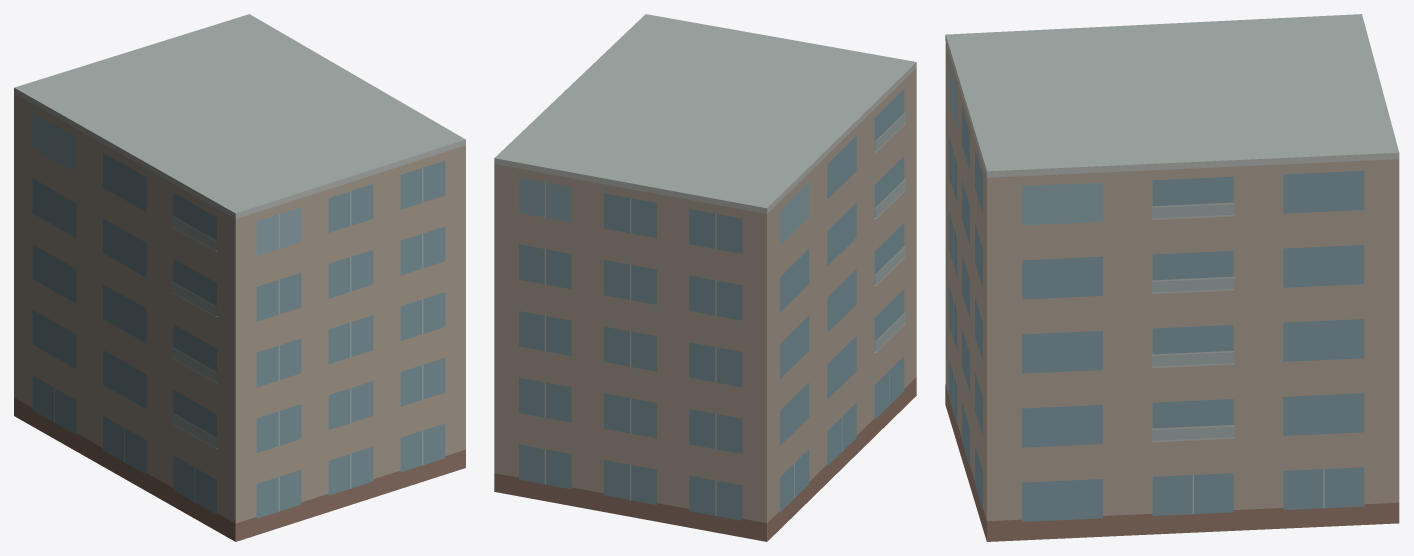
Rendered from survey-upis-32708427.glb.
3 views of the same model, side by side, from view 1: azimuth 30°, elevation 25°; view 2: azimuth 150°, elevation 25°; view 3: azimuth 270°, elevation 25° (orthographic). The views are drawn at different scales.
Visible parts, largest first — view 1: survey-upis-32708427.tmp; view 2: survey-upis-32708427.tmp; view 3: survey-upis-32708427.tmp.
Part boxes in pixels (x1=…): survey-upis-32708427.tmp: x1=14, y1=14, x2=465, y2=541; survey-upis-32708427.tmp: x1=494, y1=14, x2=916, y2=541; survey-upis-32708427.tmp: x1=945, y1=14, x2=1399, y2=541.
Size of the model in its own units: 12.85 by 14.1 by 15.66.
